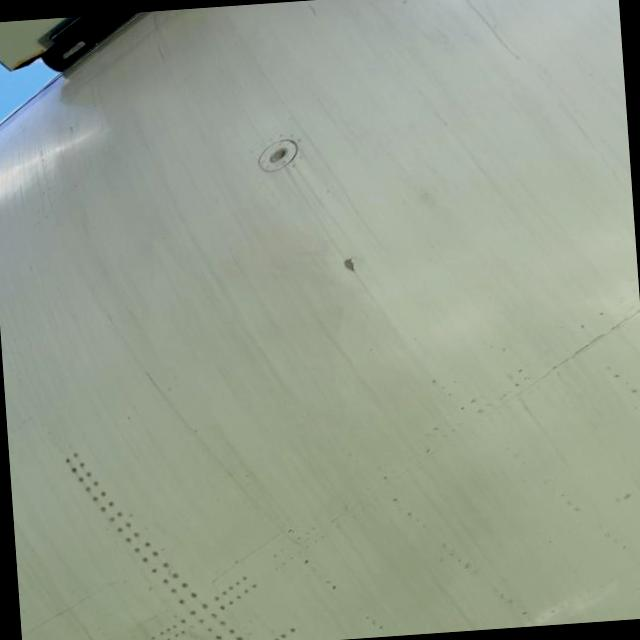crack: (140, 366, 177, 398), (344, 260, 363, 279)
